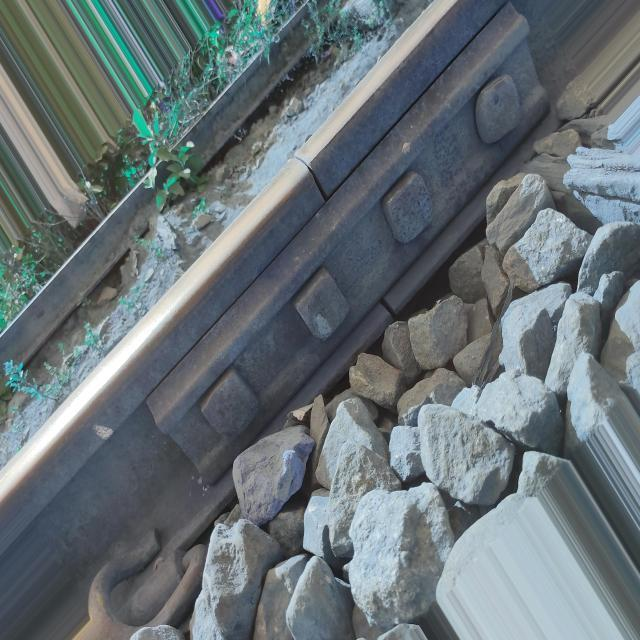Good Fasteners: (88, 529, 206, 640)
Good Joint: (144, 5, 553, 499)
